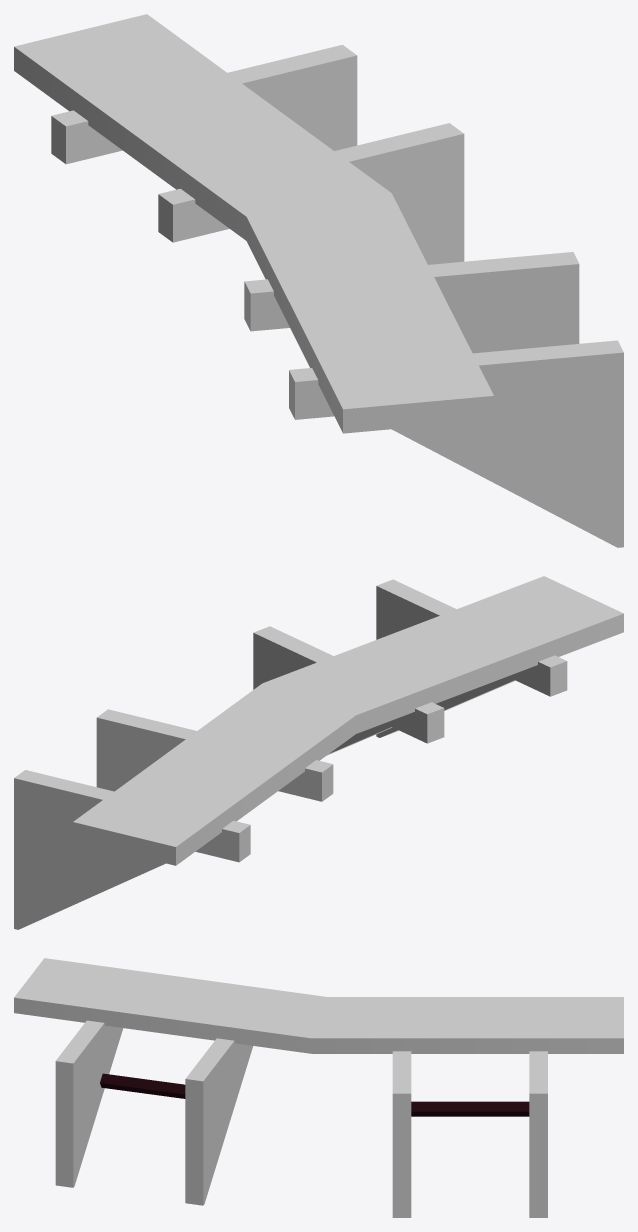
The model's file is MC_Plateforme_Courbe.fbx.
The picture shows the model from 3 angles, top to bottom: view 1: azimuth 30°, elevation 25°; view 2: azimuth 150°, elevation 25°; view 3: azimuth 270°, elevation 25°; orthographic projection. The views are drawn at different scales.
Parts seen in each view (by area): view 1: MC_Plateforme_Courbe; view 2: MC_Plateforme_Courbe; view 3: MC_Plateforme_Courbe.
Part boxes in pixels (x1,y1,x2,y2): MC_Plateforme_Courbe: (14,14,623,547); MC_Plateforme_Courbe: (14,576,623,929); MC_Plateforme_Courbe: (14,958,623,1217).
Size of the model in its own units: 14.8 by 7.72 by 31.09.
